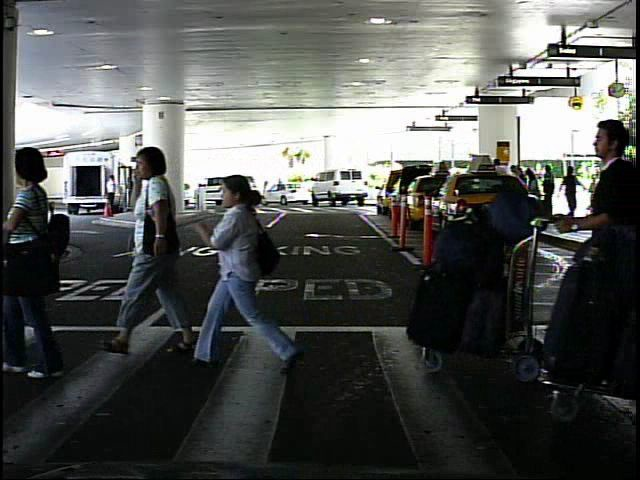person: (0, 134, 90, 382), (193, 159, 280, 382), (125, 138, 201, 360), (557, 95, 640, 230), (586, 172, 605, 218), (102, 172, 120, 203), (260, 178, 271, 204)
